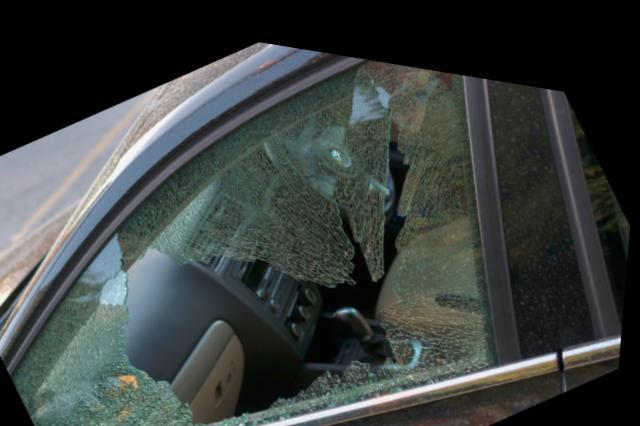glass shatter: (18, 48, 503, 426)
